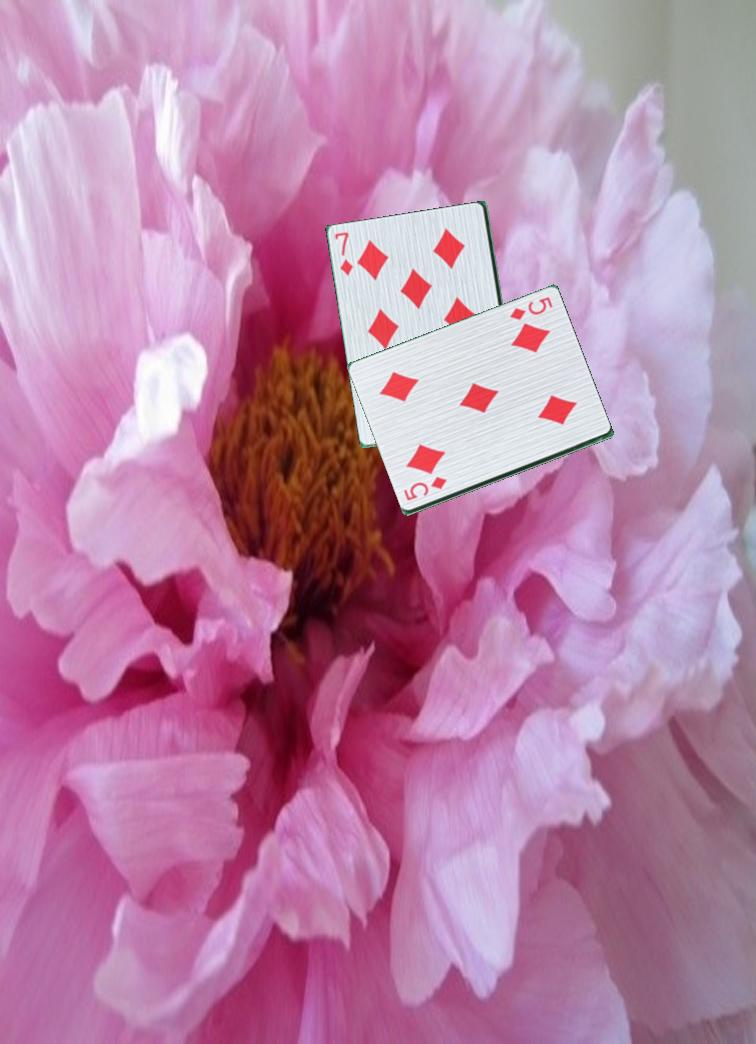5d: (506, 293, 555, 324), (400, 475, 450, 504)
7d: (327, 228, 359, 280)
